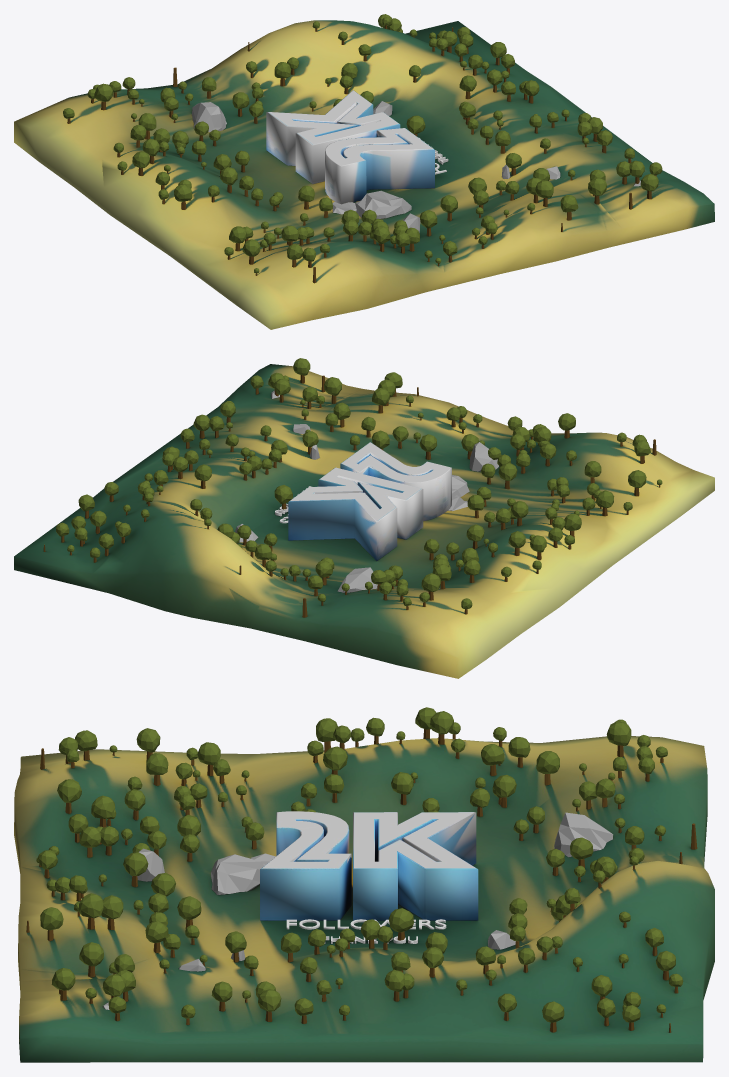
The model's file is starter-scene.glb.
3 renders of one model, top to bottom at view 1: azimuth 30°, elevation 25°; view 2: azimuth 150°, elevation 25°; view 3: azimuth 270°, elevation 25°, orthographic. The views are drawn at different scales.
Parts seen in each view (by area): view 1: Floor, Trees, 2k, Rocks; view 2: Floor, Trees, 2k, Rocks; view 3: Floor, Trees, 2k, Rocks, followers.
Part boxes in pixels (x1,y1,x2,y2): Floor: (14,20,714,329); Trees: (63,14,662,283); 2k: (266,90,434,204); Rocks: (192,101,640,232); Floor: (14,364,714,678); Trees: (43,358,662,617); 2k: (288,442,451,560); Rocks: (235,390,498,592); Floor: (14,736,714,1062); Trees: (26,707,697,1032); 2k: (260,811,478,920); Rocks: (103,812,613,1009); followers: (286,919,446,929).
Bounding box in the file's own units: 65.14 × 10.12 × 66.38.
Materials: 6 (2 with a texture image).
